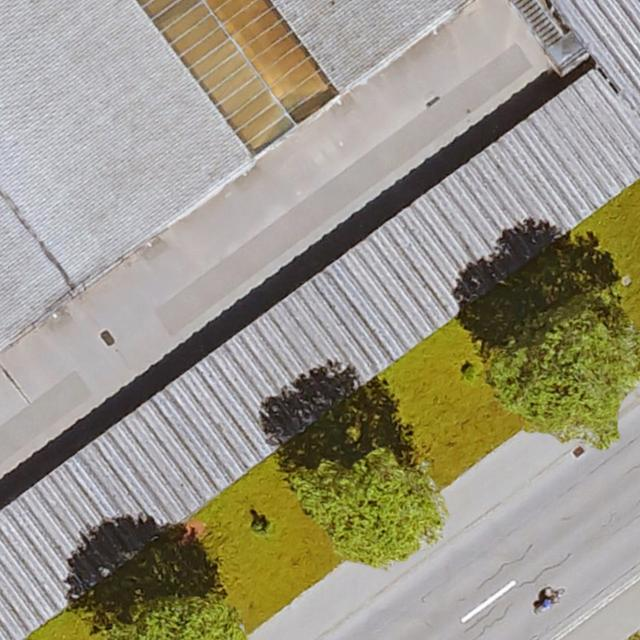tree: (489, 297, 640, 449), (288, 446, 445, 564), (91, 593, 245, 640)
